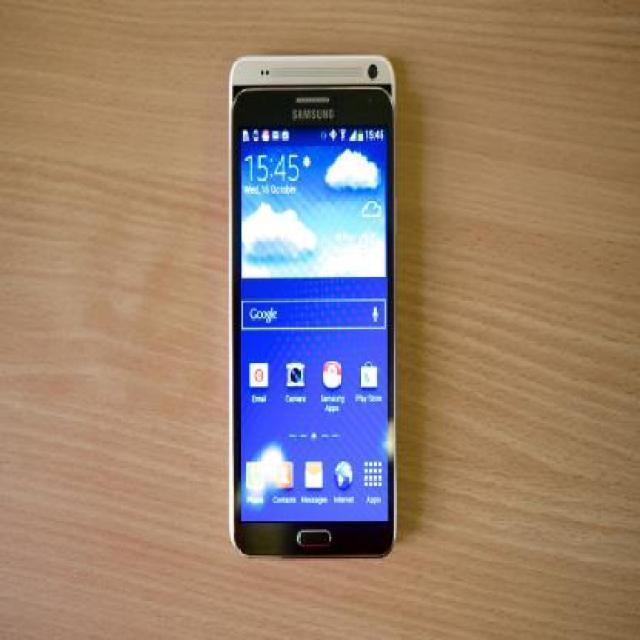phone: (225, 53, 391, 559)
